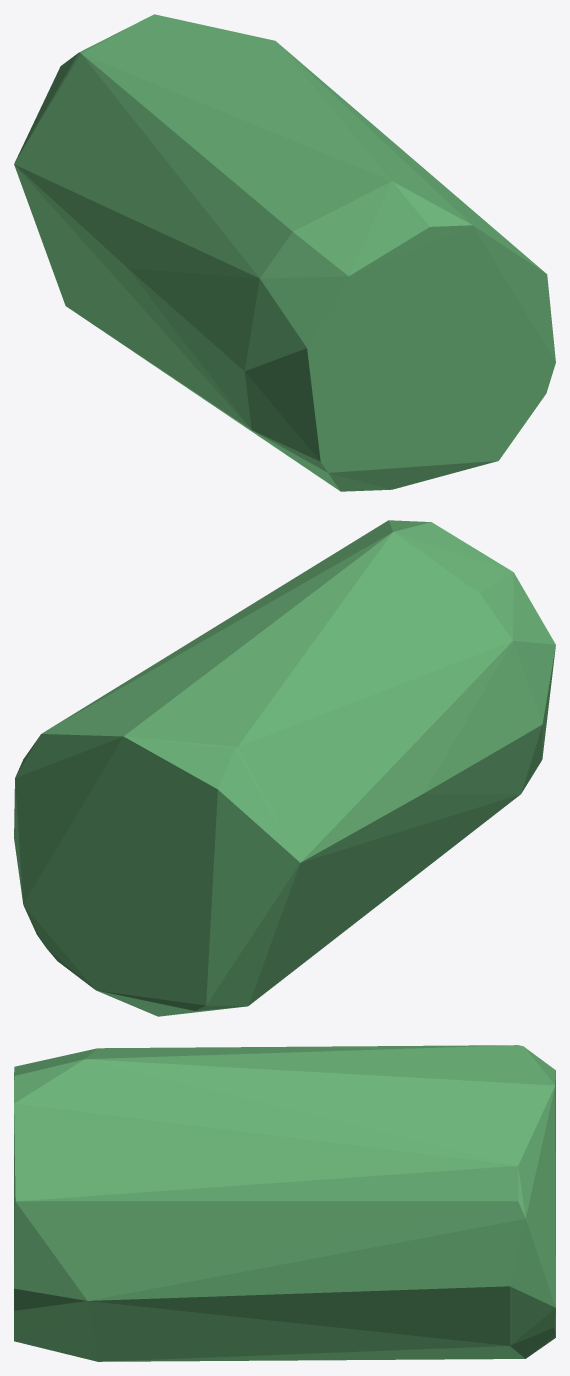
File: food_beverage_can_j01.glb
The picture shows the model from 3 angles, top to bottom: view 1: azimuth 30°, elevation 25°; view 2: azimuth 150°, elevation 25°; view 3: azimuth 270°, elevation 25°; orthographic projection. The views are drawn at different scales.
Visible parts, largest first — view 1: geometry_0; view 2: geometry_0; view 3: geometry_0.
Boxes of the visible parts, x1,y1,x2,y2 form: geometry_0: [14, 14, 555, 491]; geometry_0: [14, 520, 555, 1016]; geometry_0: [14, 1045, 555, 1361].
Bounding box in the file's own units: 0.281 × 0.2818 × 0.48.
